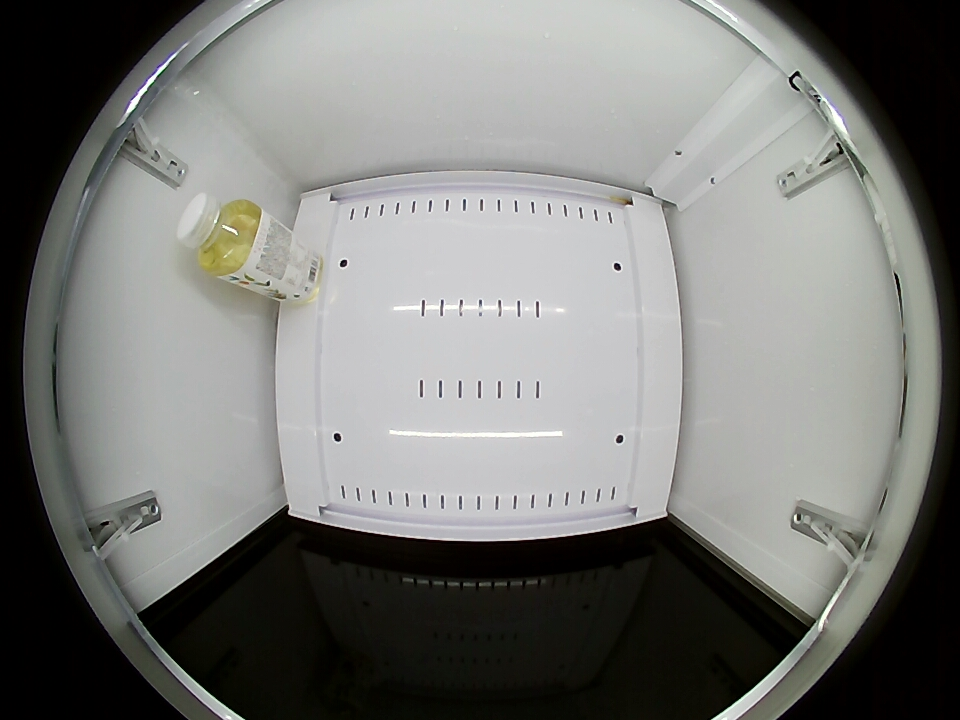chapai2: (177, 194, 264, 279)
